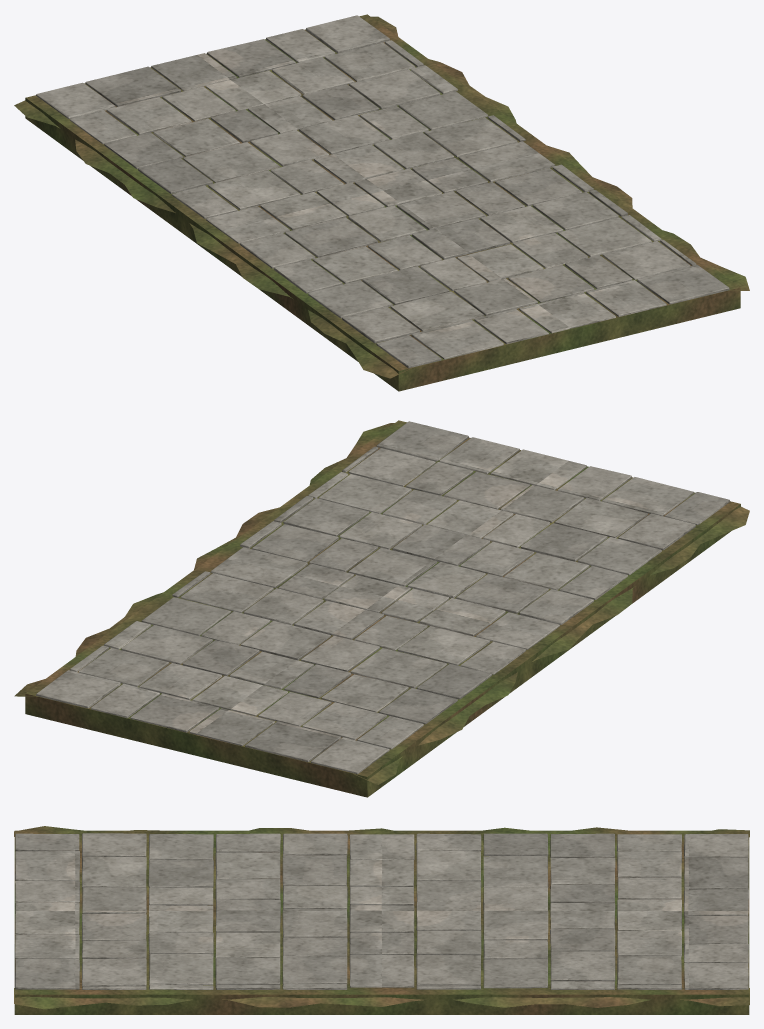
The model's file is stone_path_platform-LOD2.glb.
3 renders of one model, top to bottom at view 1: azimuth 30°, elevation 25°; view 2: azimuth 150°, elevation 25°; view 3: azimuth 270°, elevation 25°, orthographic.
Parts seen in each view (by area): view 1: Buried earthen roadbed, Closely fitted hand dressed flagstone.008, Closely fitted hand dressed flagstone.001, Closely fitted hand dressed flagstone.003, Closely fitted hand dressed flagstone, Closely fitted hand dressed flagstone.006, Closely fitted hand dressed flagstone.046; view 2: Buried earthen roadbed, Closely fitted hand dressed flagstone.008, Closely fitted hand dressed flagstone.001, Closely fitted hand dressed flagstone.003, Closely fitted hand dressed flagstone, Closely fitted hand dressed flagstone.006, Closely fitted hand dressed flagstone.046; view 3: Buried earthen roadbed, Closely fitted hand dressed flagstone.008, Closely fitted hand dressed flagstone.001, Closely fitted hand dressed flagstone.003, Closely fitted hand dressed flagstone, Closely fitted hand dressed flagstone.006, Closely fitted hand dressed flagstone.046.
Boxes of the visible parts, left/top/right/bottom form: Buried earthen roadbed: left=14, top=14, right=749, bottom=391; Closely fitted hand dressed flagstone.008: left=36, top=15, right=593, bottom=315; Closely fitted hand dressed flagstone.001: left=70, top=29, right=696, bottom=359; Closely fitted hand dressed flagstone.003: left=206, top=65, right=661, bottom=333; Closely fitted hand dressed flagstone: left=151, top=53, right=729, bottom=368; Closely fitted hand dressed flagstone.006: left=324, top=40, right=632, bottom=343; Closely fitted hand dressed flagstone.046: left=85, top=39, right=525, bottom=193; Buried earthen roadbed: left=14, top=420, right=749, bottom=797; Closely fitted hand dressed flagstone.008: left=36, top=485, right=627, bottom=774; Closely fitted hand dressed flagstone.001: left=91, top=437, right=694, bottom=749; Closely fitted hand dressed flagstone.003: left=104, top=449, right=647, bottom=715; Closely fitted hand dressed flagstone: left=189, top=421, right=730, bottom=746; Closely fitted hand dressed flagstone.006: left=70, top=462, right=695, bottom=686; Closely fitted hand dressed flagstone.046: left=130, top=571, right=491, bottom=762; Buried earthen roadbed: left=14, top=826, right=749, bottom=1014; Closely fitted hand dressed flagstone.008: left=82, top=833, right=748, bottom=989; Closely fitted hand dressed flagstone.001: left=15, top=833, right=748, bottom=989; Closely fitted hand dressed flagstone.003: left=15, top=850, right=681, bottom=989; Closely fitted hand dressed flagstone: left=15, top=833, right=748, bottom=989; Closely fitted hand dressed flagstone.006: left=82, top=833, right=682, bottom=989; Closely fitted hand dressed flagstone.046: left=416, top=833, right=748, bottom=989.
Bounding box in the file's own units: 4.72 × 0.272 × 8.
Materials: 7 (7 with a texture image).
